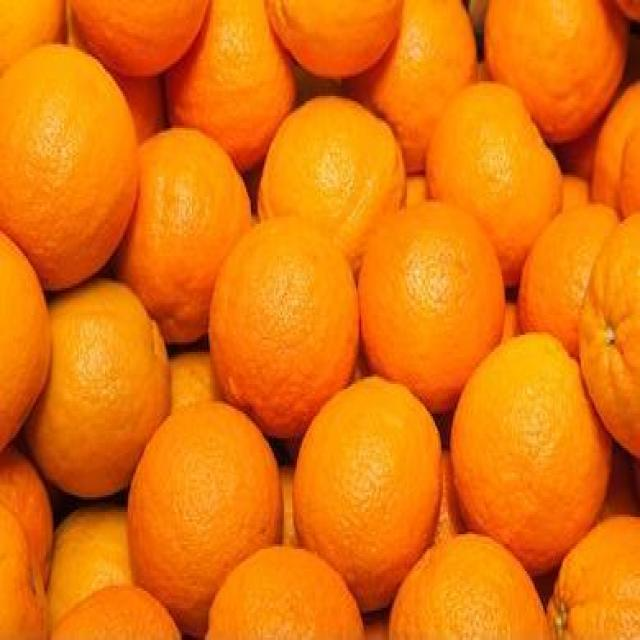orange: (0, 42, 135, 283), (450, 329, 582, 538), (209, 219, 347, 418), (362, 204, 503, 386), (129, 400, 272, 579), (294, 382, 444, 552), (257, 97, 408, 225), (52, 272, 172, 425), (429, 79, 545, 224), (135, 123, 250, 253)
